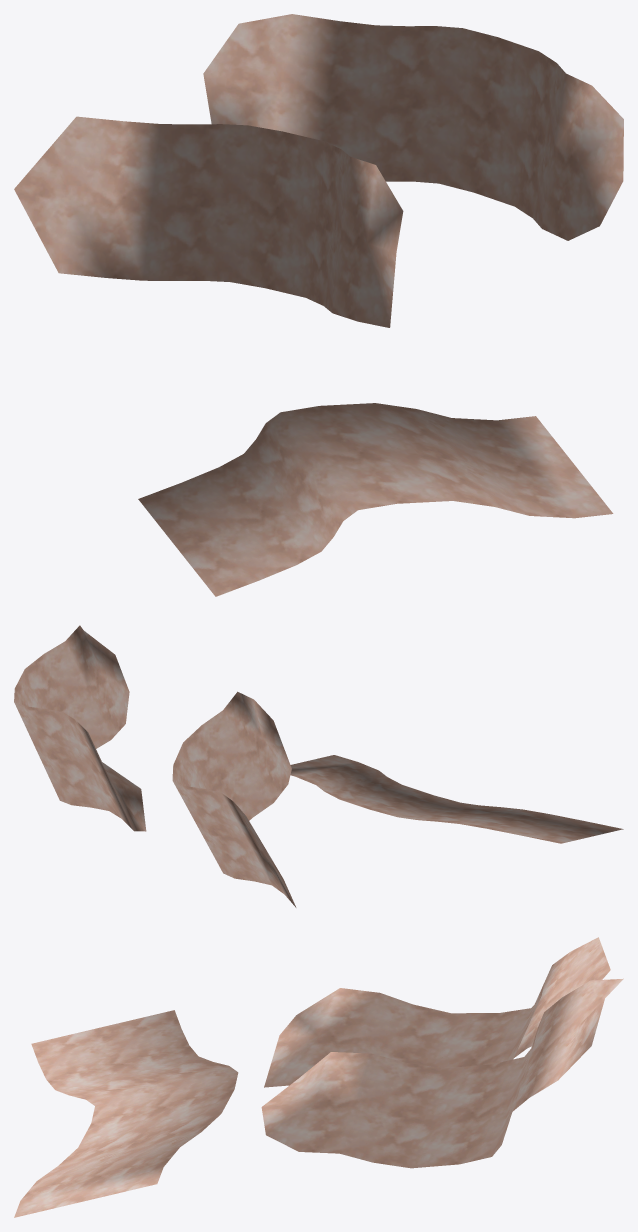
Rendered from stg210_MotCloud_14.obj.
3 renders of one model, top to bottom at view 1: azimuth 30°, elevation 25°; view 2: azimuth 150°, elevation 25°; view 3: azimuth 270°, elevation 25°, orthographic. The views are drawn at different scales.
Visible parts, largest first — view 1: polygon2, polygon0, polygon1; view 2: polygon2, polygon0, polygon1; view 3: polygon2, polygon1, polygon0.
Boxes of the visible parts, x1,y1,x2,y2 form: polygon2: (203, 14, 623, 240); polygon0: (14, 116, 403, 327); polygon1: (138, 403, 613, 596); polygon2: (14, 625, 146, 831); polygon0: (172, 691, 296, 907); polygon1: (290, 755, 623, 843); polygon2: (261, 978, 623, 1168); polygon1: (14, 1010, 238, 1217); polygon0: (264, 937, 610, 1087).
Bounding box in the file's own units: 1973 × 896 × 2087.
Materials: 1 (1 with a texture image).
